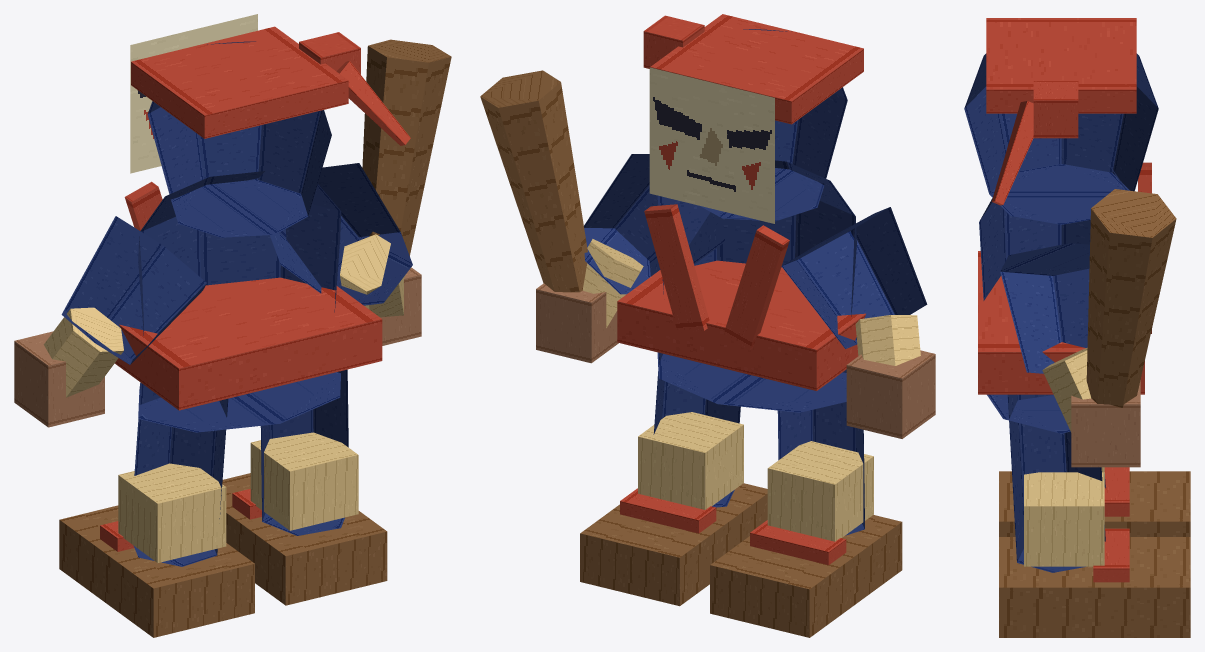
The model's file is masked_foot_soldier.glb.
The picture shows the model from 3 angles, left to right: view 1: azimuth 30°, elevation 25°; view 2: azimuth 150°, elevation 25°; view 3: azimuth 270°, elevation 25°; orthographic projection. The views are drawn at different scales.
Visible parts, largest first — view 1: Root_sash, Head_hood, Root_tunic, Head_band, Leg_L_sandal, Arm_R_club, Leg_R_sandal, Arm_L_sleeve, Leg_L_wrap, Leg_R_wrap, Arm_R_sleeve, Arm_L_hand (+9 smaller); view 2: Head_wooden_mask, Root_sash, Arm_R_club, Leg_L_sandal, Leg_R_sandal, Head_band, Root_tunic, Arm_L_sleeve, Leg_L_wrap, Leg_R_wrap, Arm_R_sleeve, Arm_L_hand (+11 smaller); view 3: Leg_R_sandal, Head_hood, Arm_R_club, Head_band, Arm_R_sleeve, Leg_R_wrap, Root_tunic, Root_sash, Leg_L_sandal, Arm_R_hand, Leg_R, Head_knot (+5 smaller).
Part boxes in pixels (<box>): Root_sash: <box>115,277,382,410</box>; Head_hood: <box>147,41,331,237</box>; Root_tunic: <box>138,171,341,432</box>; Head_band: <box>131,26,348,138</box>; Leg_L_sandal: <box>59,505,254,637</box>; Arm_R_club: <box>362,39,451,255</box>; Leg_R_sandal: <box>222,473,387,605</box>; Arm_L_sleeve: <box>61,216,206,364</box>; Leg_L_wrap: <box>118,463,226,562</box>; Leg_R_wrap: <box>250,432,358,530</box>; Arm_R_sleeve: <box>269,163,412,305</box>; Arm_L_hand: <box>14,331,104,427</box>; Head_wooden_mask: <box>649,67,774,223</box>; Root_sash: <box>617,260,865,390</box>; Arm_R_club: <box>480,70,587,292</box>; Leg_L_sandal: <box>710,515,902,637</box>; Leg_R_sandal: <box>580,483,767,606</box>; Head_band: <box>650,14,863,124</box>; Root_tunic: <box>657,160,856,412</box>; Arm_L_sleeve: <box>781,207,927,348</box>; Leg_L_wrap: <box>767,441,873,541</box>; Leg_R_wrap: <box>638,412,743,509</box>; Arm_R_sleeve: <box>584,154,724,294</box>; Arm_L_hand: <box>846,350,935,438</box>; Leg_R_sandal: <box>999,537,1190,637</box>; Head_hood: <box>964,53,1158,224</box>; Arm_R_club: <box>1086,189,1176,407</box>; Head_band: <box>986,18,1136,113</box>; Arm_R_sleeve: <box>1000,243,1089,373</box>; Leg_R_wrap: <box>1024,472,1104,566</box>; Root_tunic: <box>979,163,1125,433</box>; Root_sash: <box>978,251,1144,394</box>; Leg_L_sandal: <box>999,471,1190,536</box>; Arm_R_hand: <box>1071,380,1140,467</box>; Leg_R: <box>1007,394,1105,572</box>; Head_knot: <box>1033,80,1078,138</box>.
Size of the model in its own units: 1.8 by 2.17 by 0.815.
Materials: 1 (1 with a texture image).
